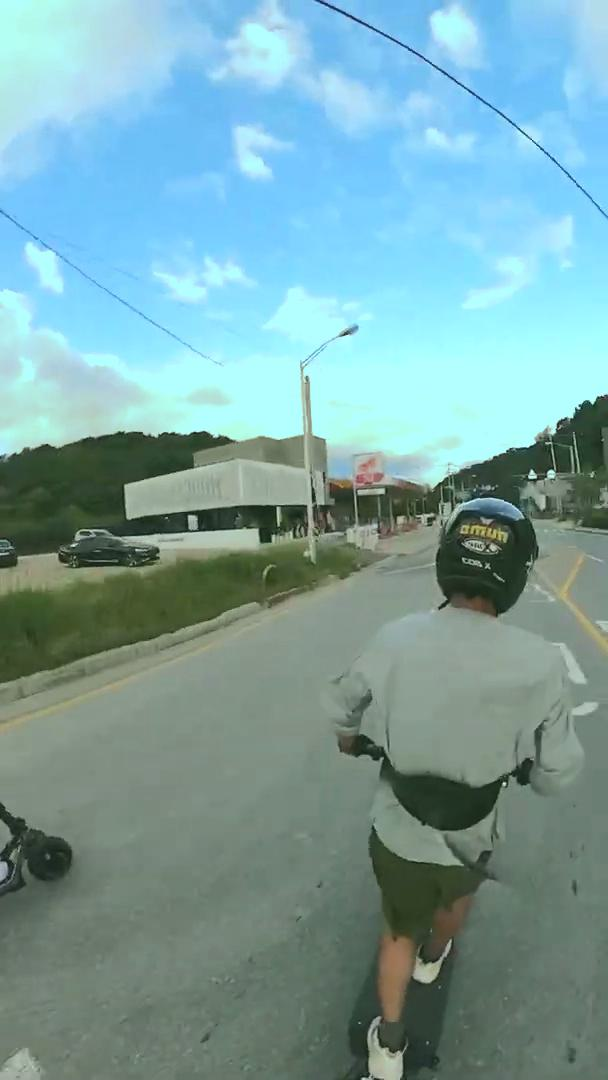helmet: (321, 492, 588, 1080)
